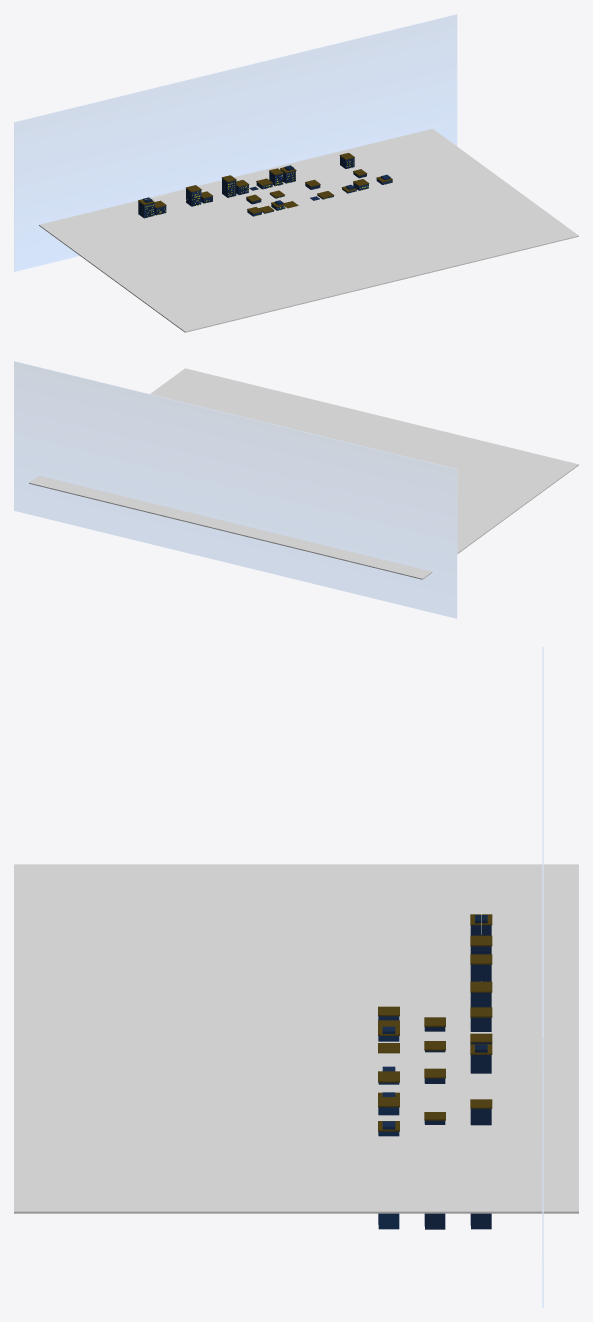
The model's file is yardneon.glb.
3 views of the same model, one above another, from view 1: azimuth 30°, elevation 25°; view 2: azimuth 150°, elevation 25°; view 3: azimuth 270°, elevation 25° (orthographic). The views are drawn at different scales.
Visible parts, largest first — view 1: Ground contact / transparent shadow receiver.070, Sky gradient / editable material.070, World / terrain and architecture.033; view 2: Sky gradient / editable material.070, Ground contact / transparent shadow receiver.070; view 3: Ground contact / transparent shadow receiver.070, World / terrain and architecture.033, Sky gradient / editable material.070.
Boxes of the visible parts, left/top/right/bottom form: Ground contact / transparent shadow receiver.070: left=39, top=128, right=578, bottom=332; Sky gradient / editable material.070: left=14, top=14, right=457, bottom=271; World / terrain and architecture.033: left=138, top=153, right=392, bottom=218; Sky gradient / editable material.070: left=14, top=361, right=457, bottom=618; Ground contact / transparent shadow receiver.070: left=29, top=368, right=578, bottom=579; Ground contact / transparent shadow receiver.070: left=14, top=864, right=578, bottom=1213; World / terrain and architecture.033: left=378, top=914, right=492, bottom=1229; Sky gradient / editable material.070: left=542, top=647, right=543, bottom=1307.
Bounding box in the file's own units: 180 × 62 × 110.
